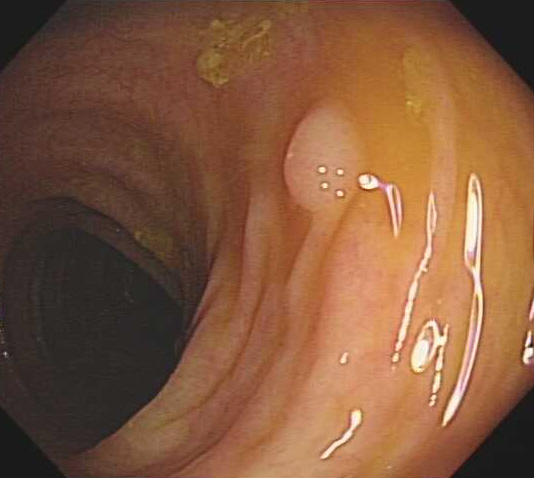adenoma: (279, 95, 368, 213)
